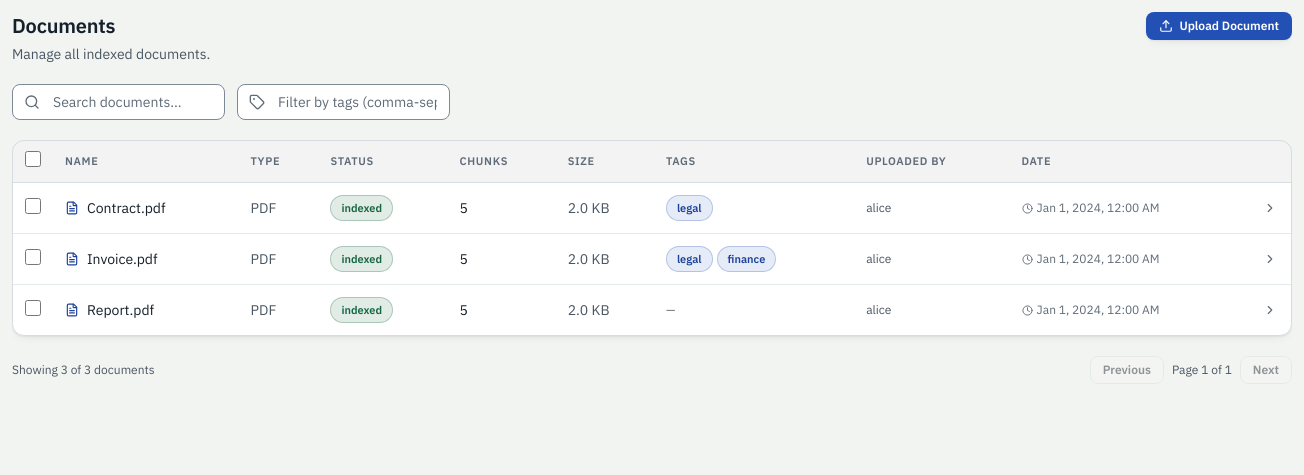
Test: AdminDocumentsPage — bulk document ops › unchecking one row after select-all shows "2 selected"
Expected: the text "Contract.pdf" is shown, [87,198,166,218]
What coordinates should you click on to do the following:
click the checkbox named "Select all documents"
I would click on:
 (33, 159)
Its box is [25,151,41,167].
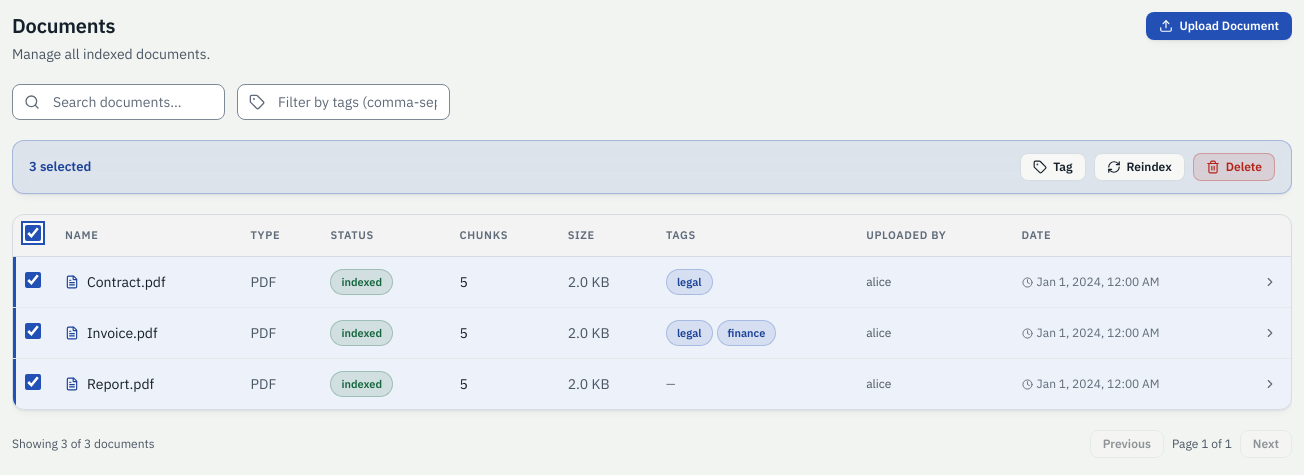
What coordinates should you click on to do the following:
click the checkbox named "Select Contract.pdf"
I would click on:
 (33, 280)
Its box is [25,272,41,288].
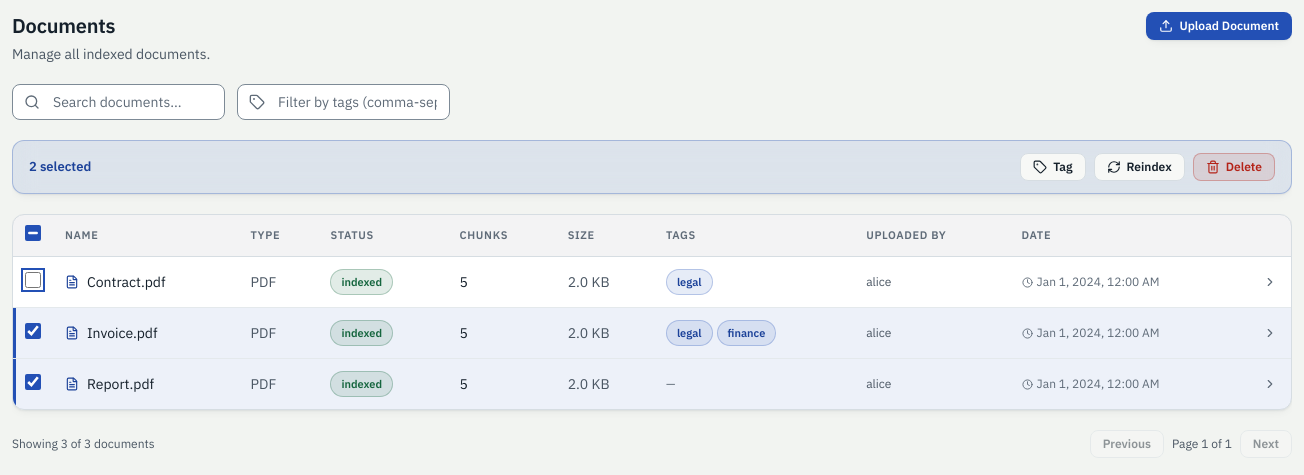
Result: the checkbox named "Select Contract.pdf" is not checked at [25,272,41,288]
Result: the text "2 selected" is shown at [29,157,91,177]
